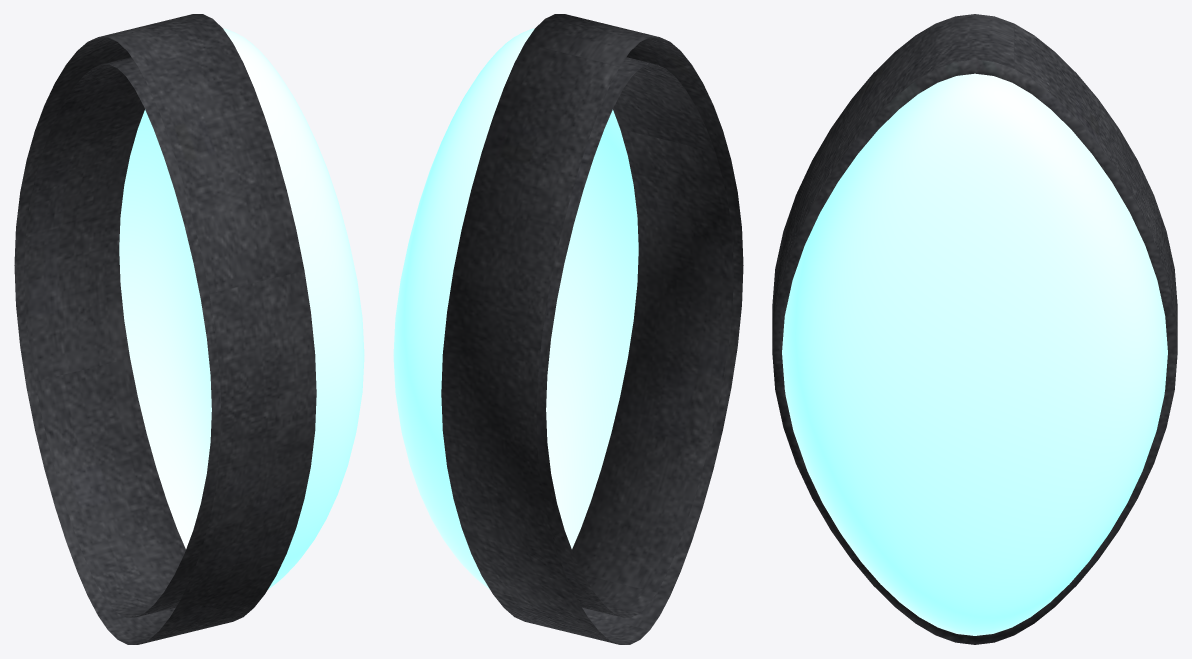
File: lamp2.glb
3 views of the same model, side by side, from view 1: azimuth 30°, elevation 25°; view 2: azimuth 150°, elevation 25°; view 3: azimuth 270°, elevation 25° (orthographic). The views are drawn at different scales.
Parts seen in each view (by area): view 1: Куб, Куб.001; view 2: Куб, Куб.001; view 3: Куб.001, Куб.
Boxes of the visible parts, <box> form: Куб: <box>14,14,316,644</box>; Куб.001: <box>119,28,364,589</box>; Куб: <box>441,14,743,644</box>; Куб.001: <box>393,28,638,589</box>; Куб.001: <box>782,73,1167,635</box>; Куб: <box>772,14,1177,644</box>.
Size of the model in its own units: 0.8097 by 2.41 by 1.51.
2 materials, 1 textured.
